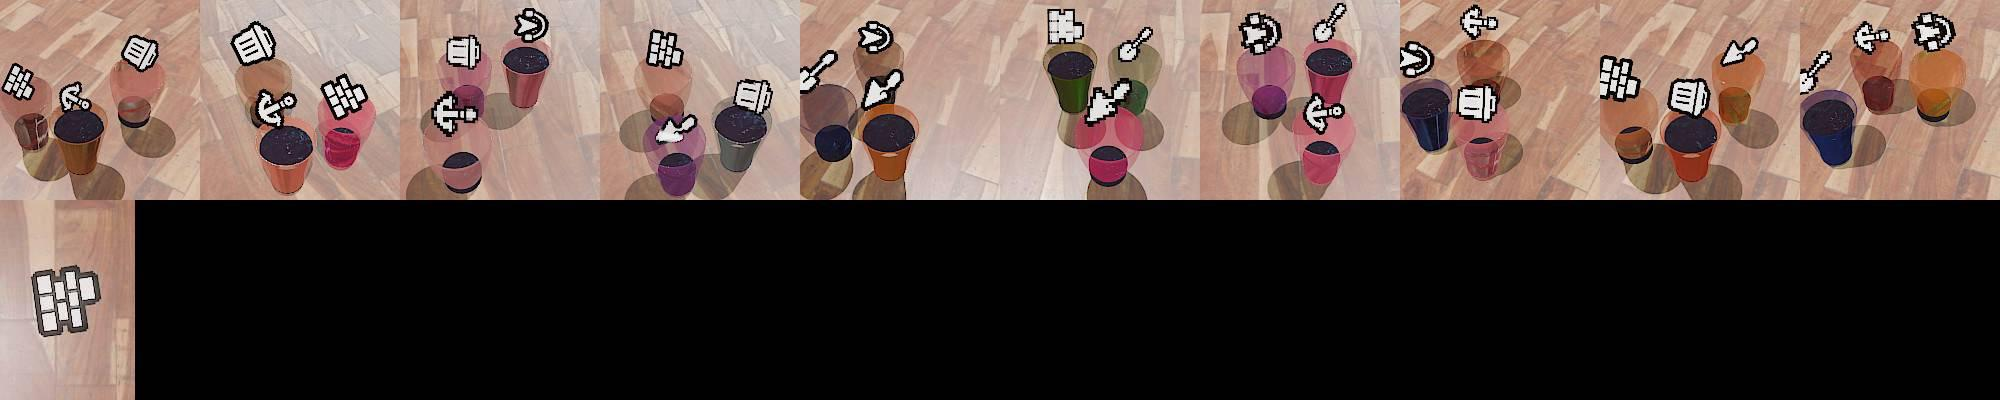icon: (32, 265, 106, 338), (430, 88, 482, 136), (320, 71, 370, 121), (231, 18, 279, 69), (1082, 78, 1133, 126), (1598, 54, 1642, 102), (1237, 11, 1282, 56), (861, 68, 904, 112), (798, 47, 841, 93), (1909, 11, 1957, 52), (1457, 82, 1500, 125), (1302, 90, 1346, 134), (1667, 76, 1712, 117), (254, 88, 298, 129), (732, 76, 773, 117), (645, 28, 685, 69), (1798, 50, 1833, 96), (120, 33, 159, 73), (1311, 1, 1347, 45), (653, 111, 698, 145), (1046, 6, 1084, 46), (1459, 4, 1499, 42), (1116, 25, 1153, 64), (1399, 39, 1435, 79), (1852, 22, 1894, 55), (445, 34, 482, 71), (513, 6, 550, 43), (1, 62, 37, 101), (856, 19, 894, 55), (1718, 36, 1759, 68), (59, 80, 89, 113)
